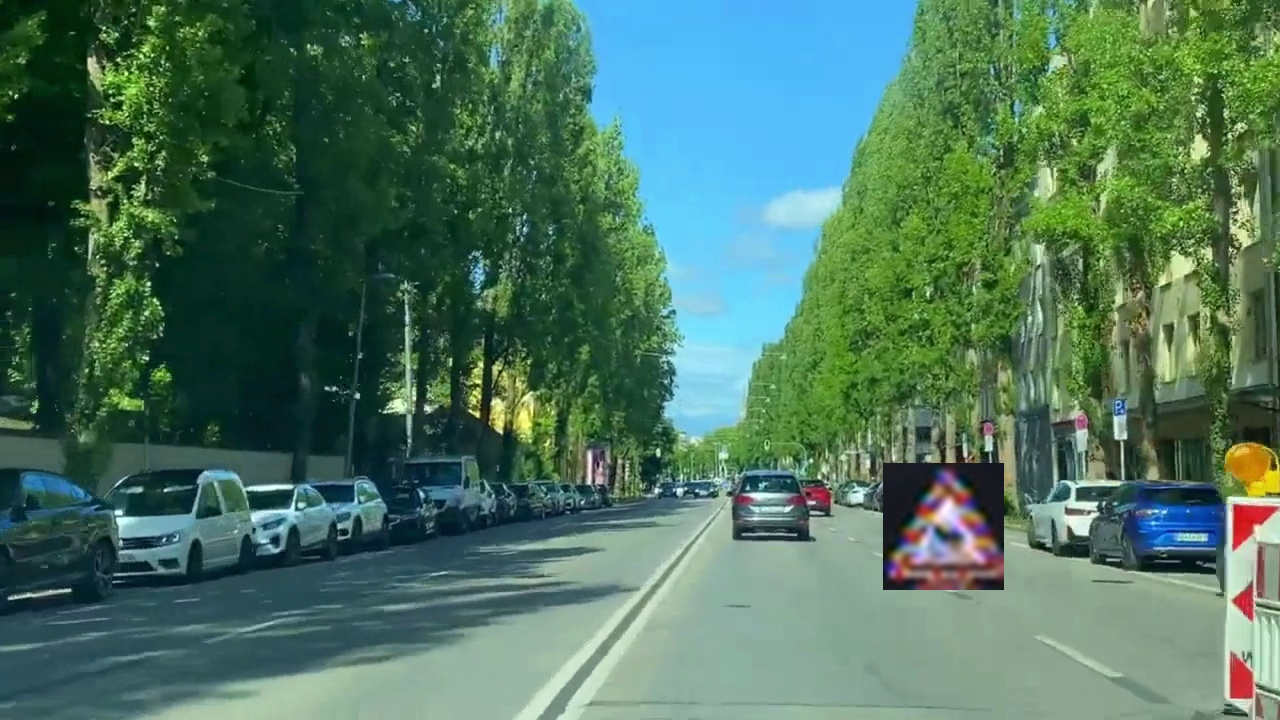Slippery: (883, 463, 1004, 590)
